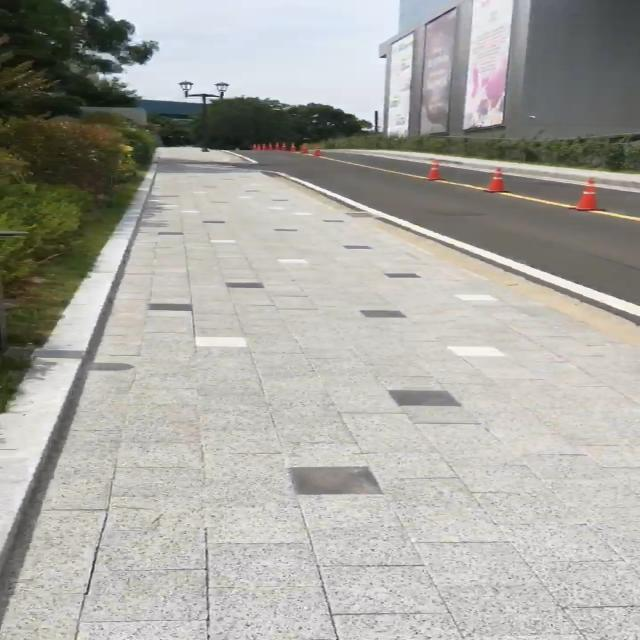obstacle: (557, 173, 607, 212), (476, 161, 514, 193), (412, 153, 449, 180)
road: (227, 149, 640, 351)
sidewalk: (0, 166, 640, 640), (356, 148, 640, 192), (156, 144, 250, 168)
